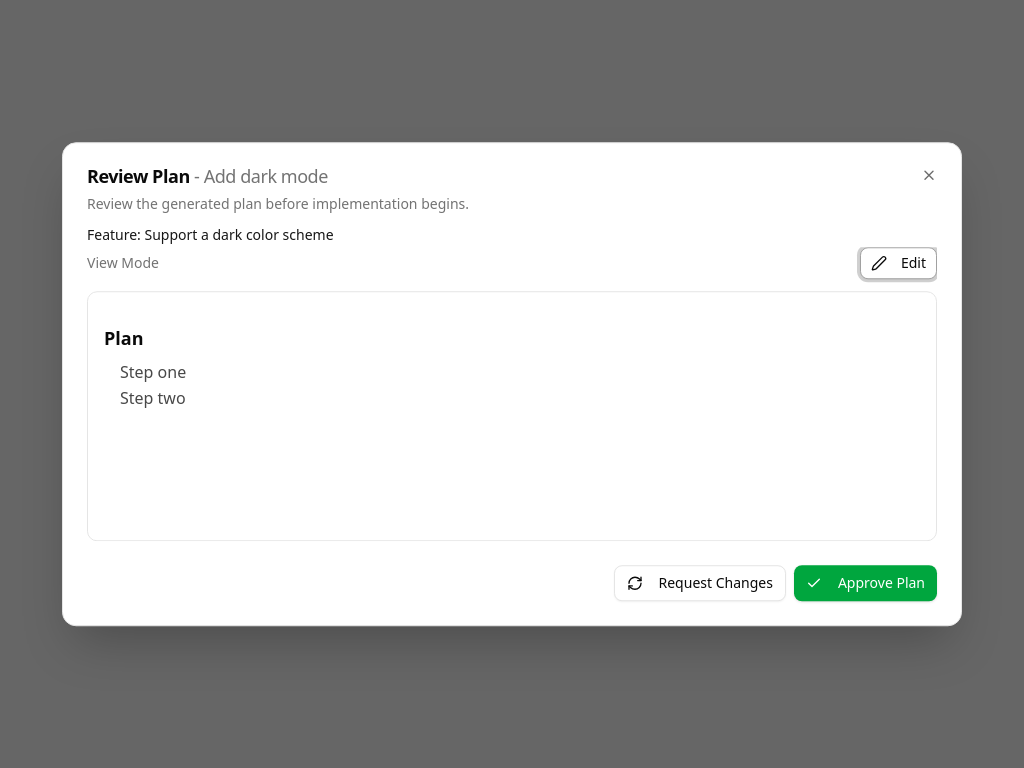
Test: PlanApprovalDialog — reject / feedback flow › "Back" button hides the feedback textarea
What coordinates should you click on to do the following:
click the button "Request Changes"
I would click on:
 (700, 583)
Its box is [614,565,786,601].
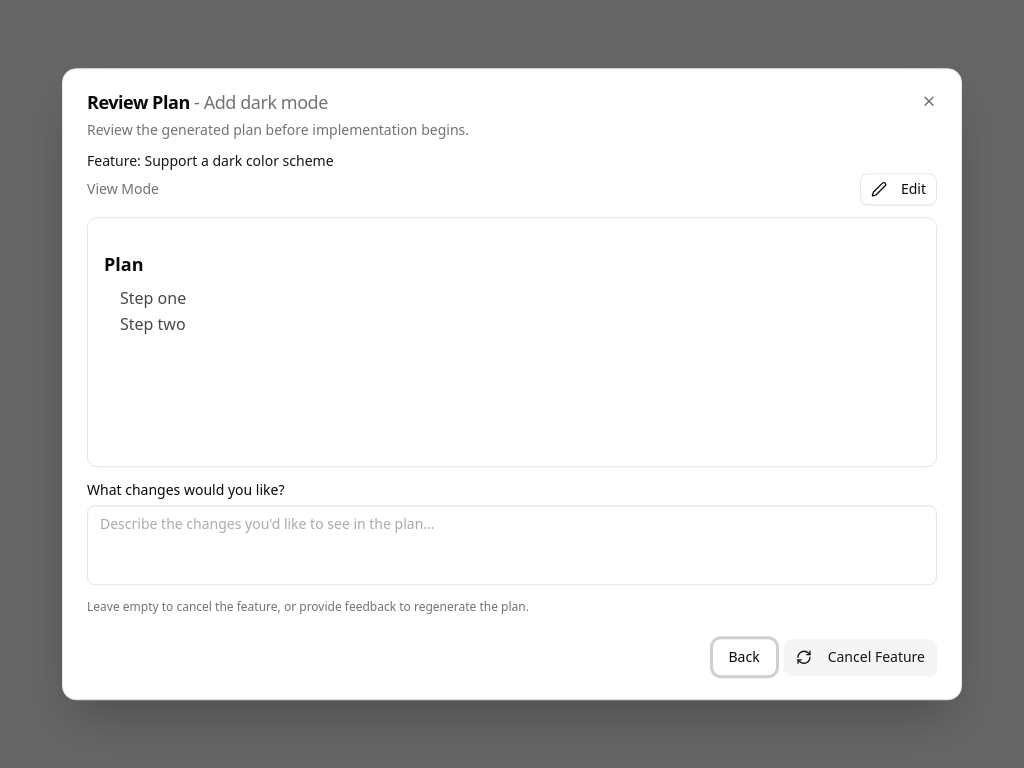
Check: the text box labelled "What changes would you like?" is shown, box [87,505,937,585]
What coordinates should you click on to do the following:
click the button "Back"
I would click on:
 (744, 657)
Its box is [712,639,776,675].
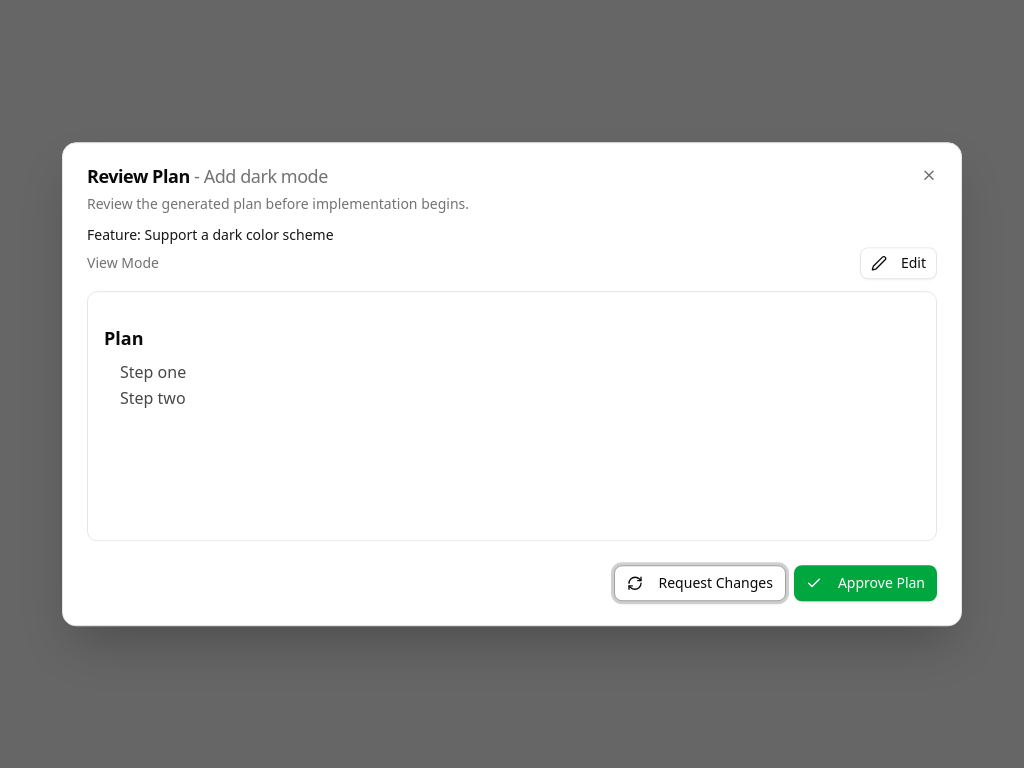
Check: the label labelled "What changes would you like" is gone
